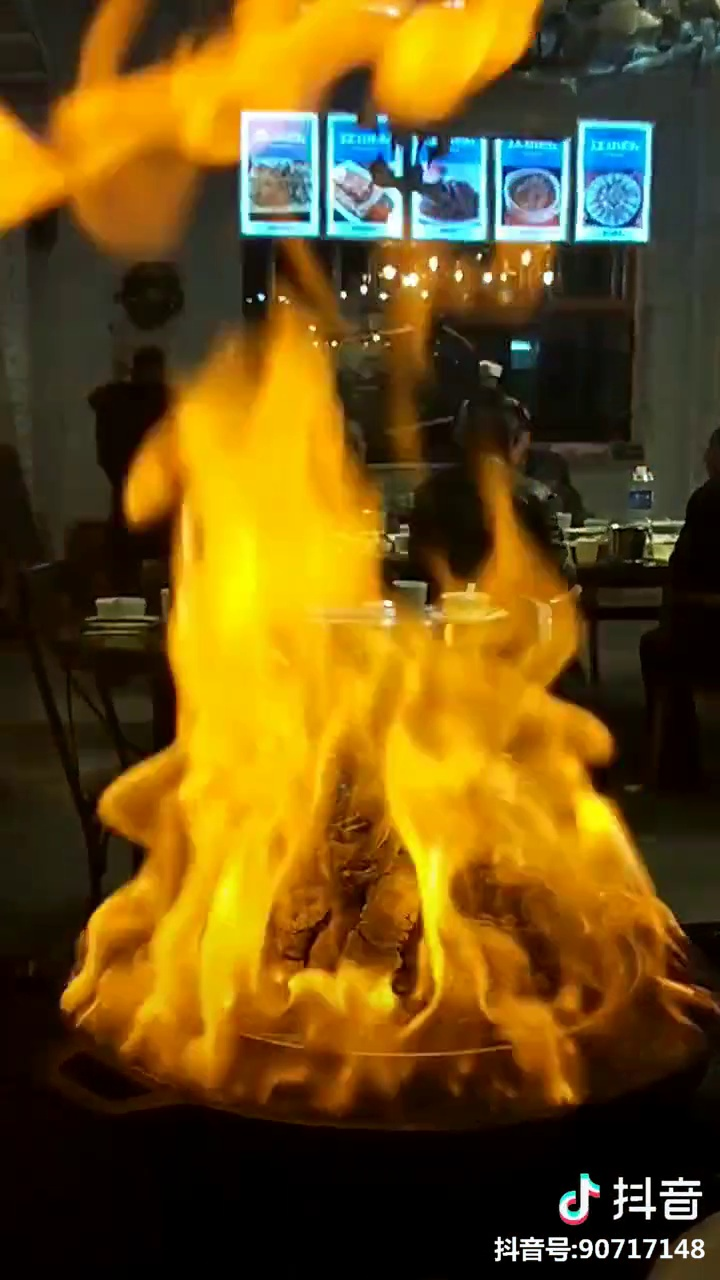fire: (133, 324, 664, 1075)
